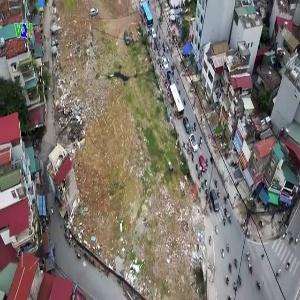drone: (95, 47, 151, 103)
